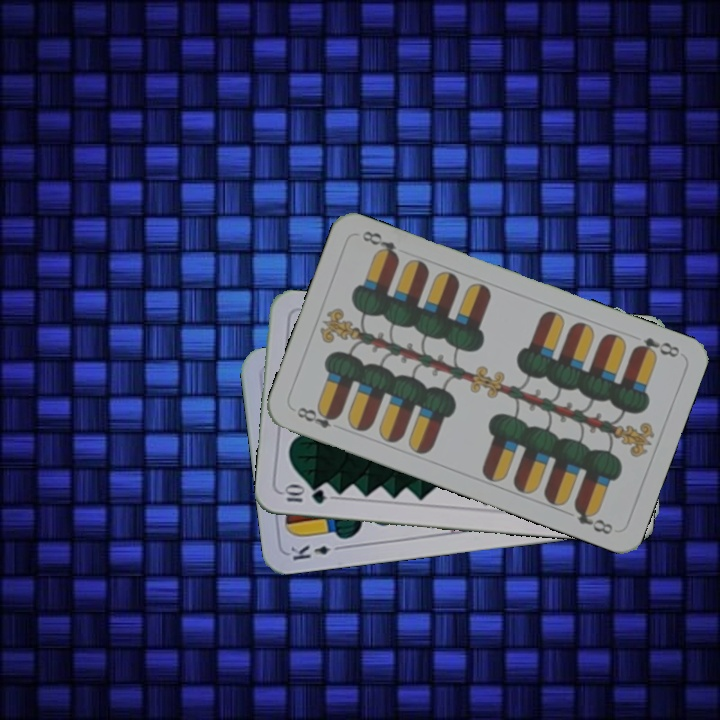E8: (290, 402, 342, 431), (629, 333, 682, 361)
EK: (286, 541, 346, 563)
G10: (279, 483, 329, 506)
